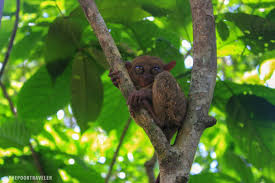tarsier: (106, 55, 196, 139)
